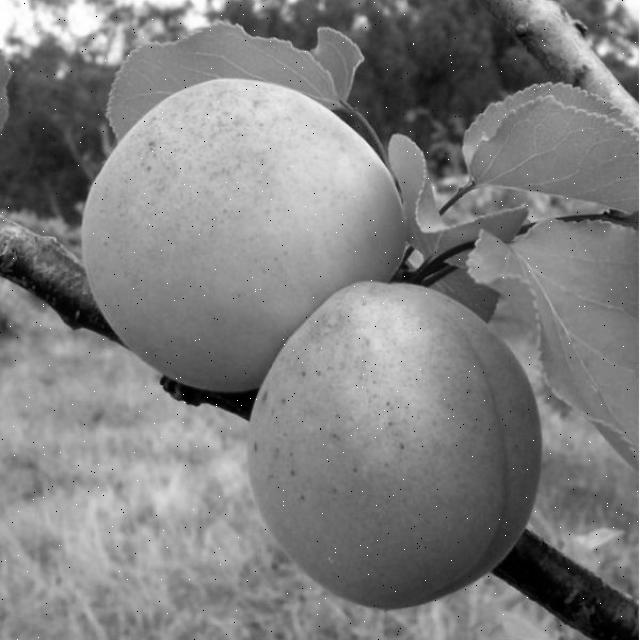kayisi: (82, 76, 405, 386), (258, 279, 541, 609)
kayisi yapragi: (467, 216, 640, 469), (86, 16, 372, 126), (461, 77, 640, 208), (399, 130, 525, 254), (0, 42, 25, 136)
